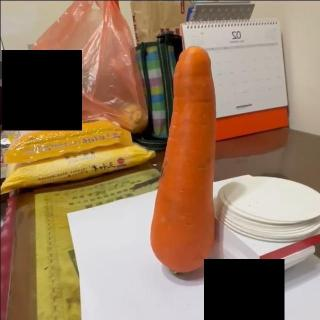carrot: (148, 47, 216, 274)
